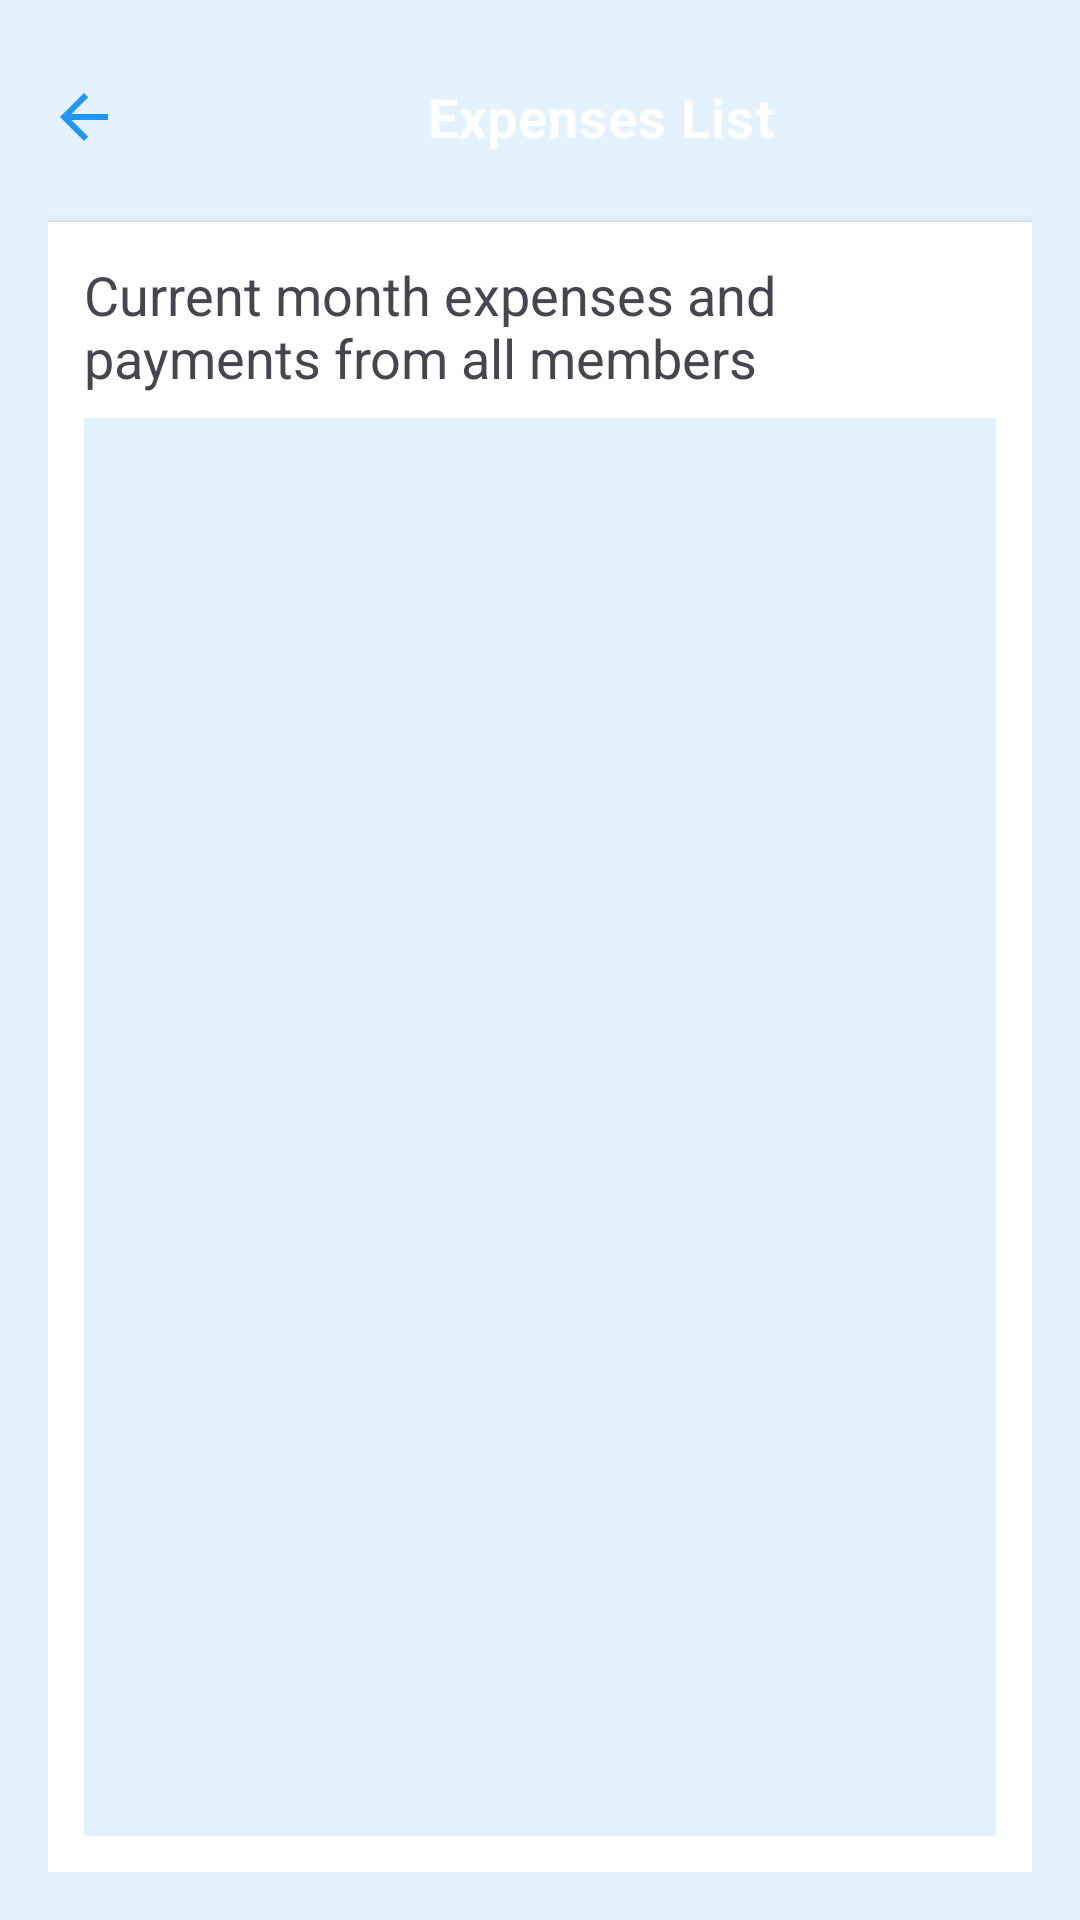

Screen size 1080w x 1920h. Icon name, then its box in pixels as (x1, y1, x2, y2):
arrow back: (60, 93, 108, 141)
